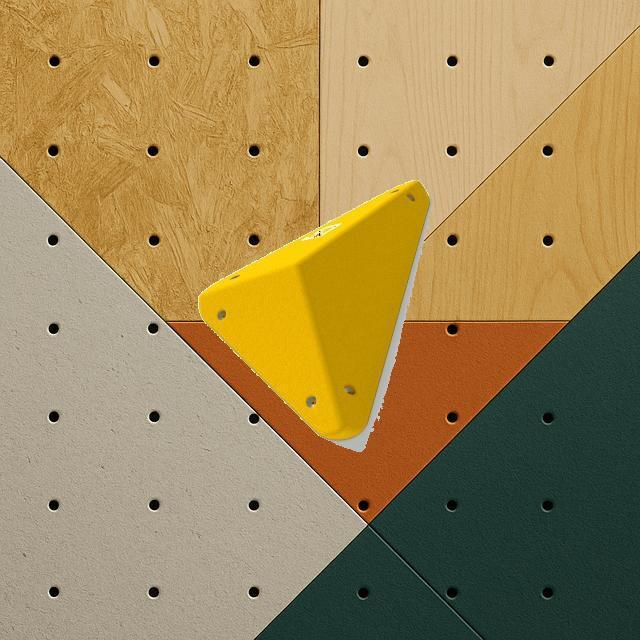Volume: (197, 178, 431, 442)
